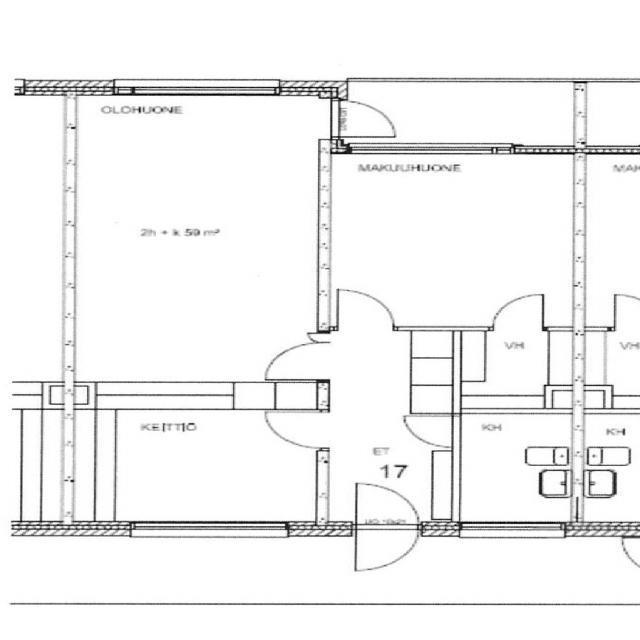door: (356, 484, 417, 530), (356, 525, 417, 570), (263, 343, 330, 379), (331, 101, 397, 136), (267, 412, 330, 448), (338, 290, 393, 330), (493, 293, 544, 330), (405, 416, 462, 447), (304, 333, 330, 343)
